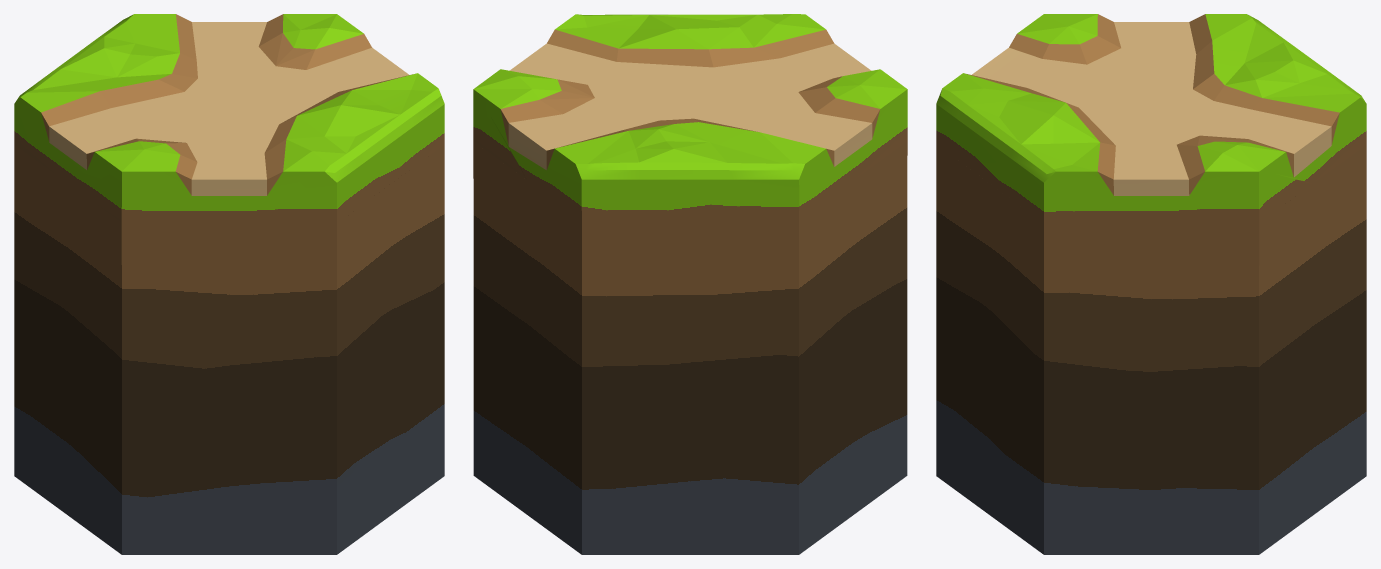
Rendered from HexTilePath_4Way_1.glb.
3 renders of one model, left to right at view 1: azimuth 30°, elevation 25°; view 2: azimuth 150°, elevation 25°; view 3: azimuth 270°, elevation 25°, orthographic.
Visible parts, largest first — view 1: HexTilePath_4Way_1; view 2: HexTilePath_4Way_1; view 3: HexTilePath_4Way_1.
Part boxes in pixels (box(x1,y1,x2,y2)): HexTilePath_4Way_1: box(14, 14, 444, 554); HexTilePath_4Way_1: box(473, 14, 907, 554); HexTilePath_4Way_1: box(936, 14, 1366, 554).
Size of the model in its own units: 1.73 by 2.01 by 2.
1 material, 1 textured.
